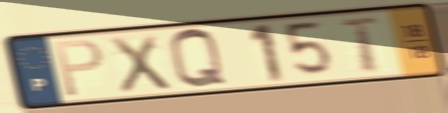1: (247, 21, 288, 85)
5: (279, 19, 336, 79)
P: (51, 37, 106, 100)
Q: (166, 26, 231, 92)
T: (336, 15, 385, 75)
X: (106, 32, 174, 96)
